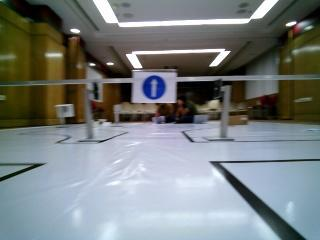straight: (131, 70, 178, 102)
